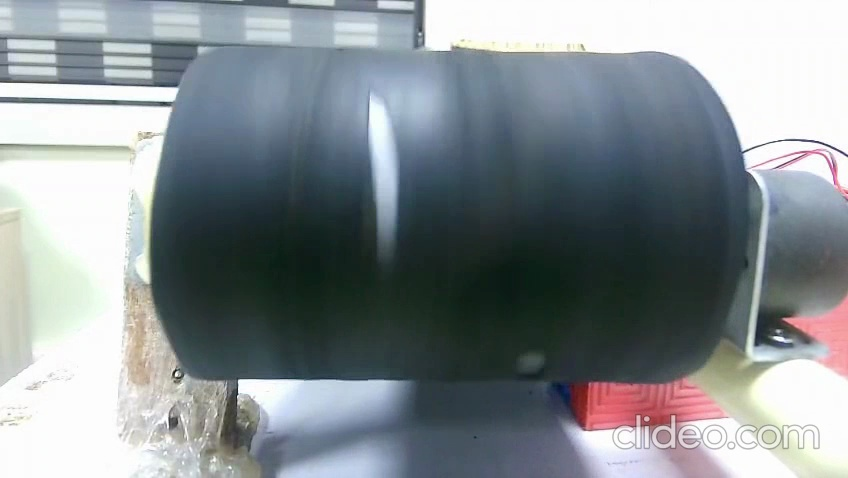hole: (509, 345, 562, 395)
tear: (353, 87, 415, 271)
